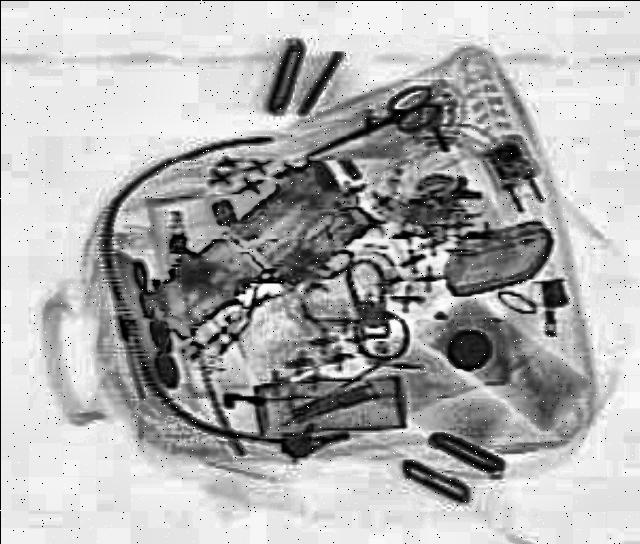Scissors: (294, 84, 454, 178)
